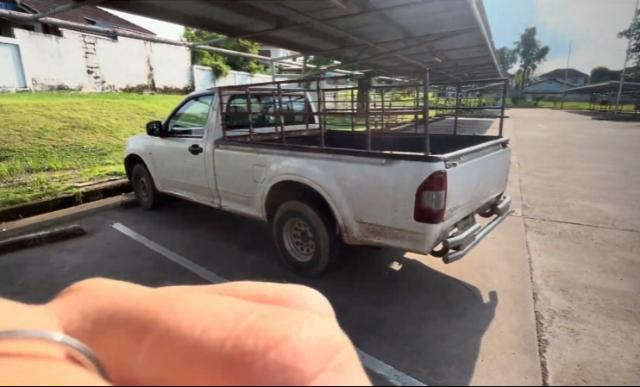pickup-truck: (119, 86, 514, 282)
